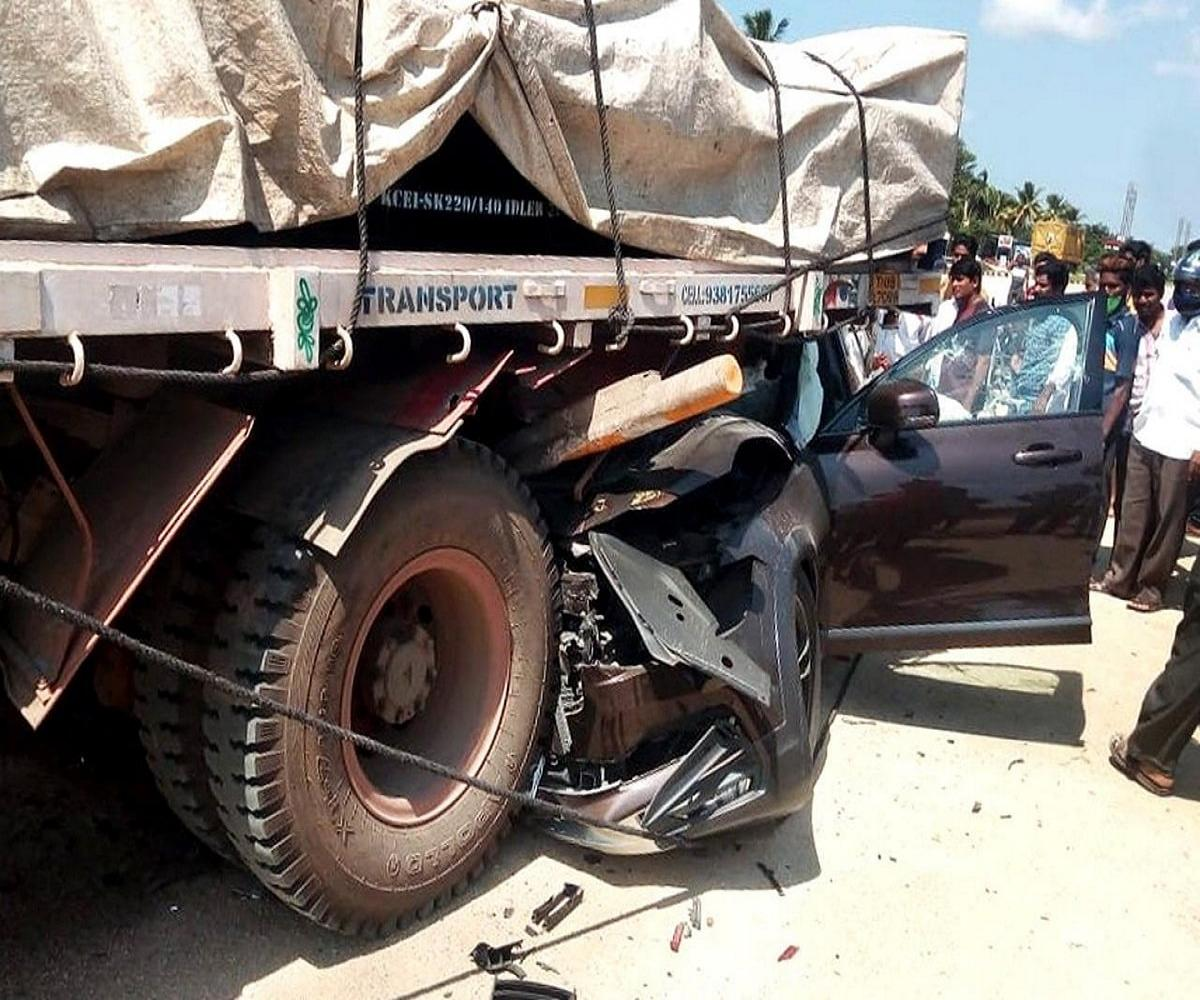accident: (24, 8, 1099, 1000)
